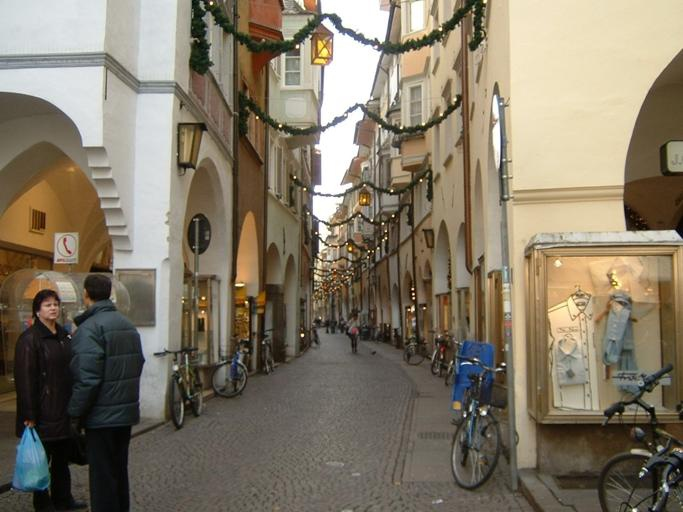non-vehicle: (594, 362, 682, 512), (445, 339, 506, 494), (152, 344, 206, 430), (632, 437, 682, 512), (207, 339, 255, 400), (428, 326, 459, 375), (440, 335, 464, 383), (256, 327, 277, 375), (400, 334, 428, 366), (309, 323, 321, 349)
